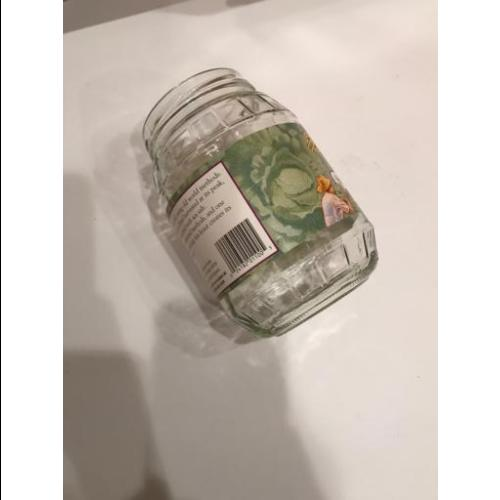glass: (146, 68, 379, 339)
